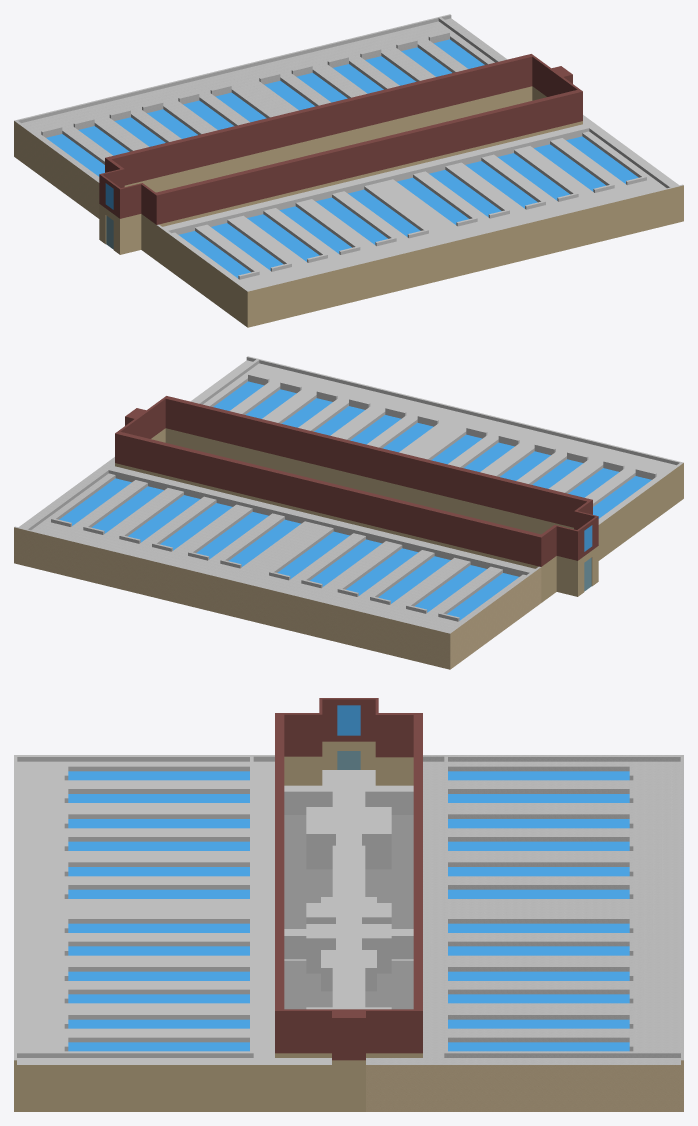
The model's file is C_Filter_expansion.glb.
3 renders of one model, top to bottom at view 1: azimuth 30°, elevation 25°; view 2: azimuth 150°, elevation 25°; view 3: azimuth 270°, elevation 25°, orthographic. The views are drawn at different scales.
Visible parts, largest first — view 1: Floor1; view 2: Floor1; view 3: Floor1.
Part boxes in pixels (x1,y1,x2,y2): Floor1: (14,14,683,327); Floor1: (14,356,683,669); Floor1: (14,698,683,1111).
Size of the model in its own units: 58.4 by 8 by 51.7.
6 materials, 5 textured.
